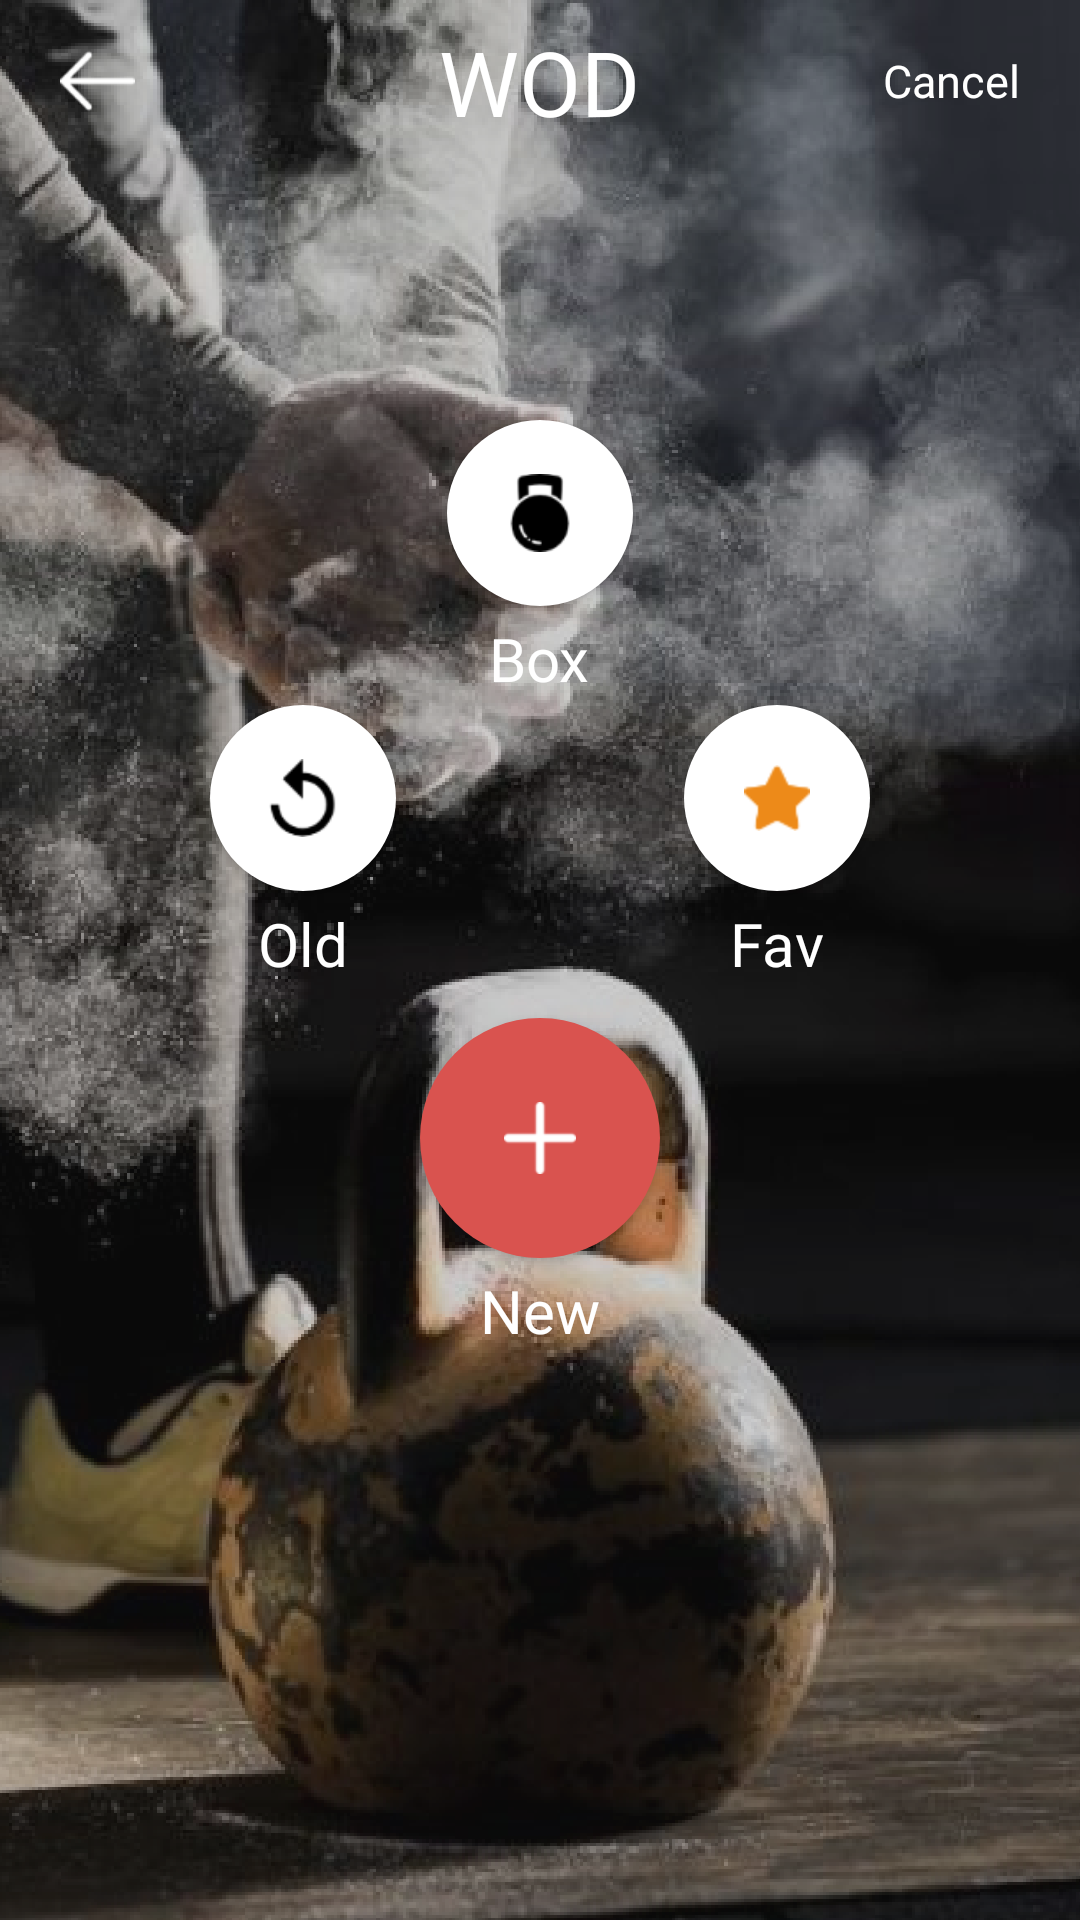

Where to tap for icons on this 1080×1920 app screen, as (x,y):
left arrow: (97,81)
